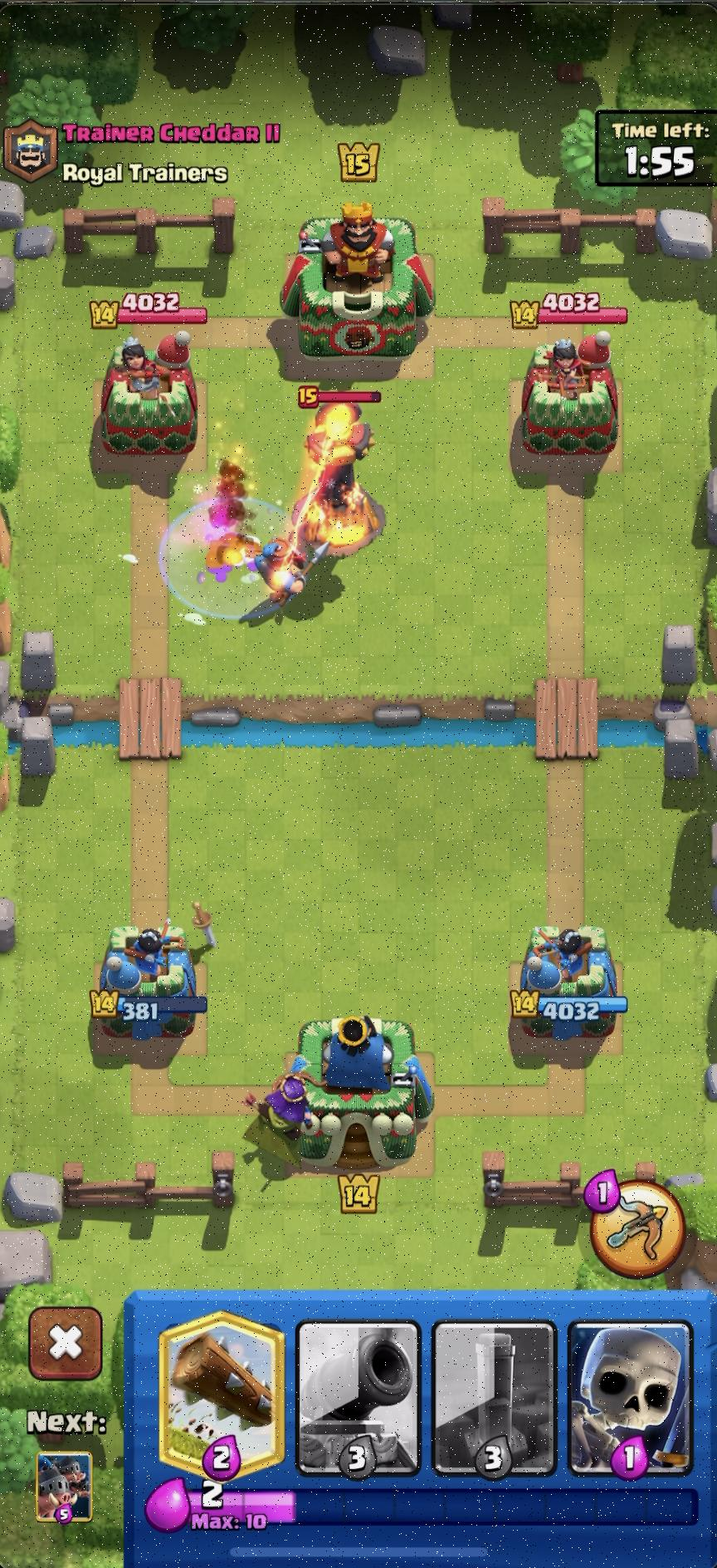card_cannon: (296, 1316, 421, 1480)
card_earthquake: (430, 1317, 558, 1480)
card_log: (150, 1305, 288, 1487)
card_royalhogs: (33, 1448, 97, 1526)
card_skeletons: (566, 1316, 695, 1480)
